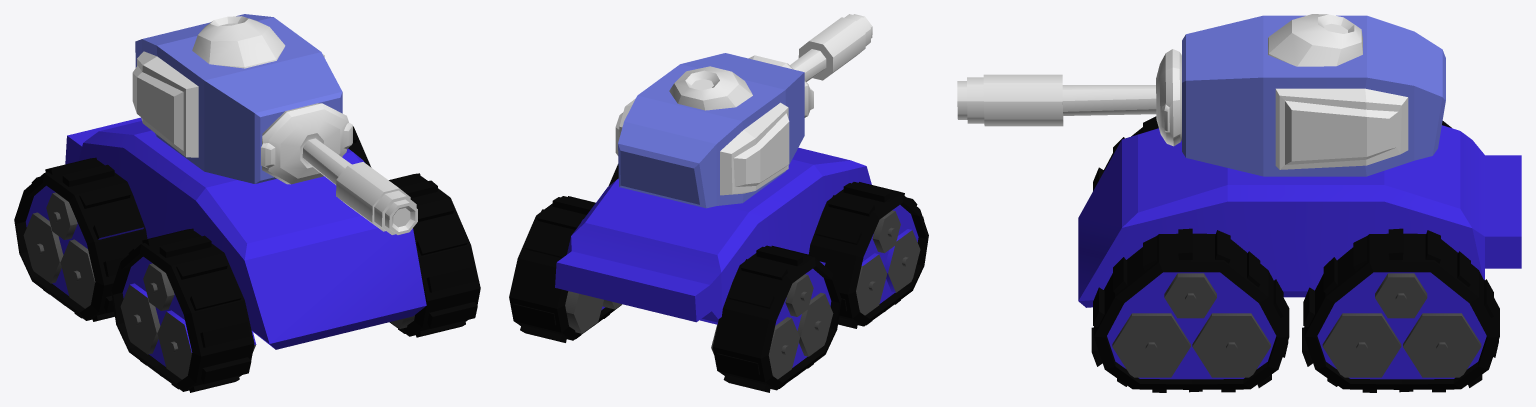
File: Tank.fbx
3 renders of one model, left to right at view 1: azimuth 30°, elevation 25°; view 2: azimuth 150°, elevation 25°; view 3: azimuth 270°, elevation 25°, orthographic. The views are drawn at different scales.
Visible parts, largest first — view 1: Tanque, Tanque.001; view 2: Tanque, Tanque.001; view 3: Tanque, Tanque.001.
Boxes of the visible parts, left/top/right/bottom form: Tanque: left=14, top=117, right=480, bottom=392; Tanque.001: left=132, top=14, right=417, bottom=234; Tanque: left=509, top=147, right=928, bottom=392; Tanque.001: left=615, top=14, right=872, bottom=208; Tanque: left=1078, top=116, right=1521, bottom=392; Tanque.001: left=957, top=14, right=1445, bottom=176.
Size of the model in its own units: 322 by 501 by 294.
